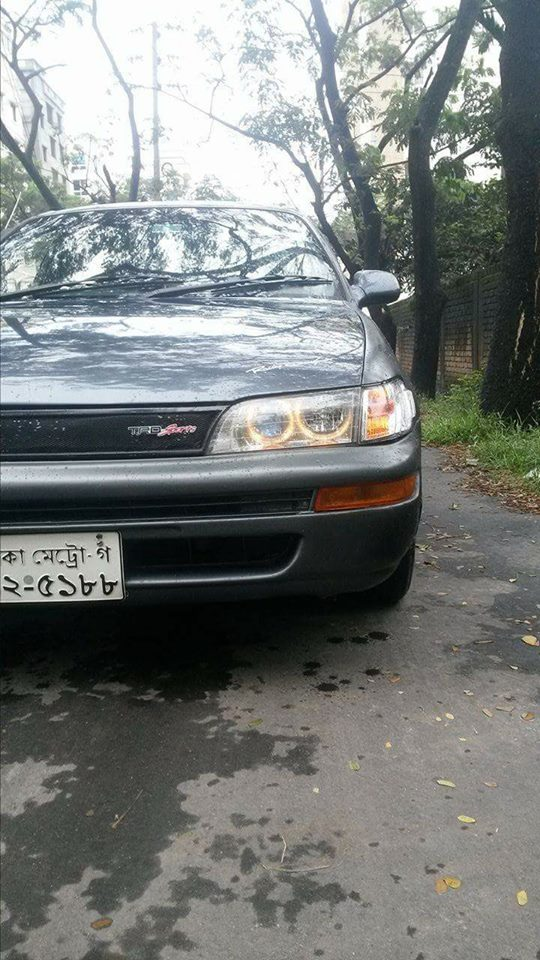registration_plate: (1, 529, 126, 602)
